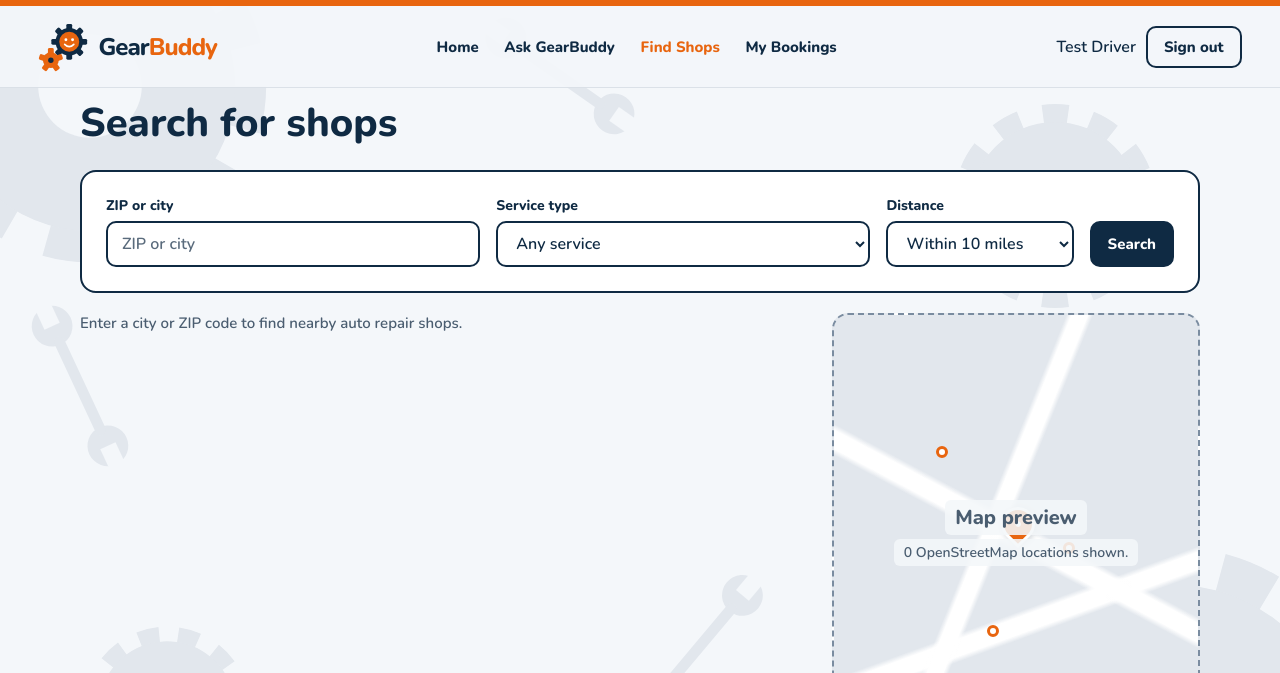
Test: GearBuddy screens › shows shop details and carries the selected shop to appointments
Type "Denver" into the search field labelled "ZIP or city".
click(293, 244); type("Denver")  # box [106,221,480,267]
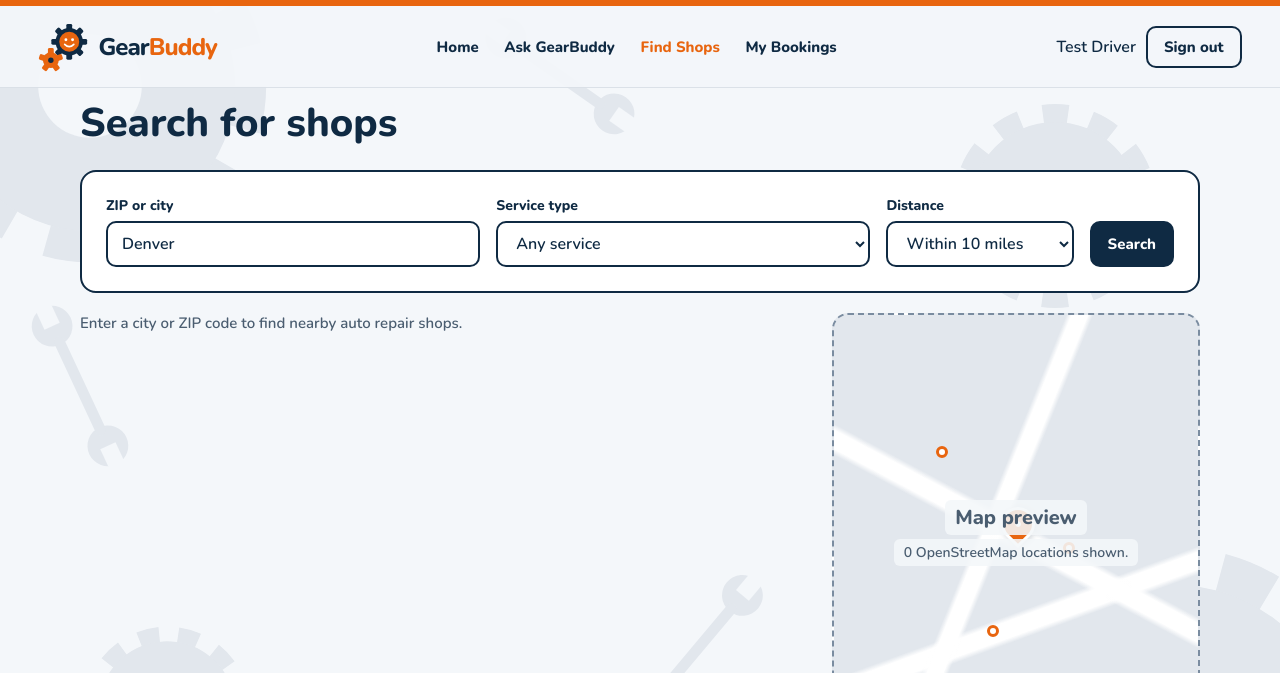
Submit the form named "Search shops", box [80,170,1200,293]
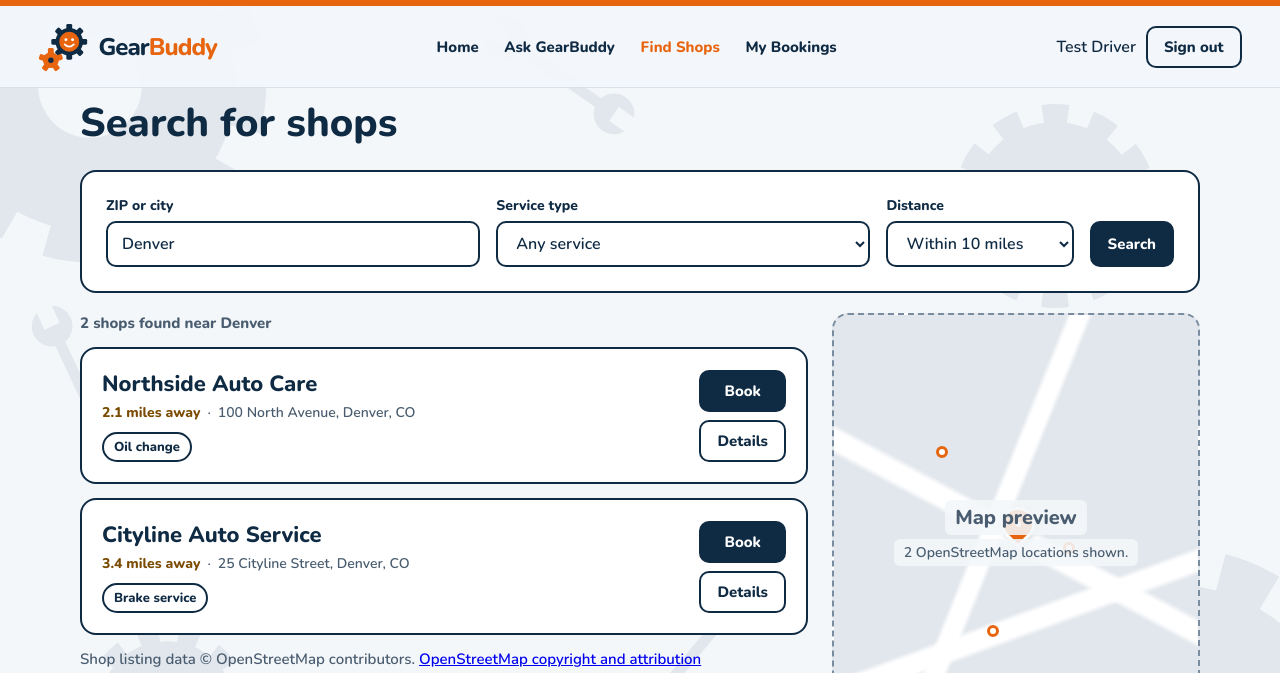
Click the button with aria-label "Details for Northside Auto Care".
click(743, 440)  # box [699,420,786,462]
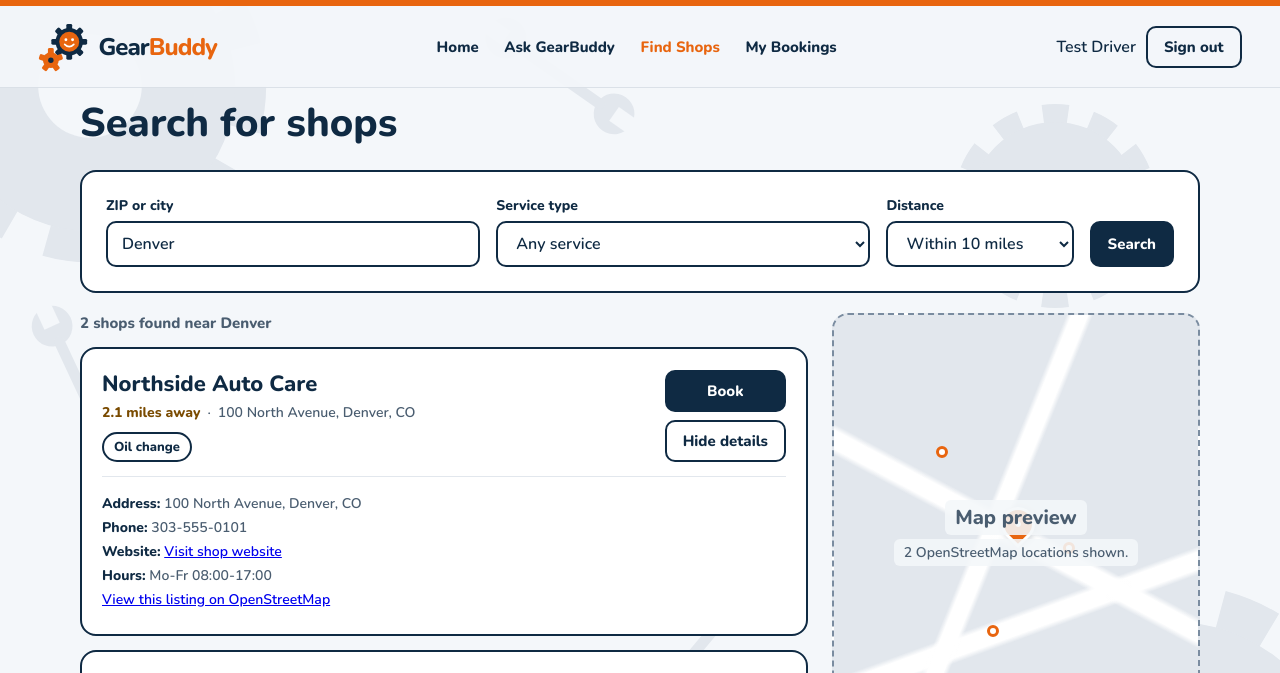
Expected: the text "100 North Avenue, Denver, CO" is shown 2 times, [218,403,415,422]; [102,494,362,513]
Expected: the text "303-555-0101" is shown, [151,518,247,537]
Click the button with aria-label "Book at Northside Auto Care".
click(725, 390)  # box [665,370,786,412]
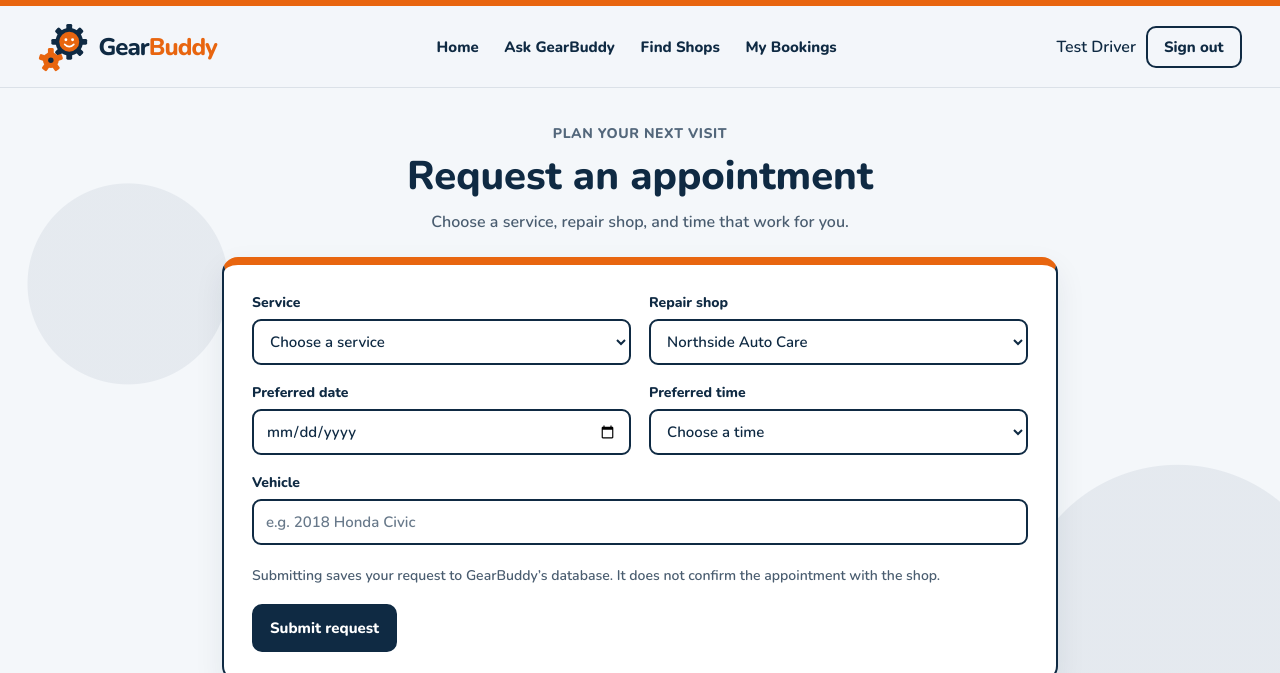
Expected: the heading "Request an appointment" is shown, [407,149,873,203]
Expected: the dropdown labelled "Repair shop" shows "Northside Auto Care", [649,319,1028,365]
